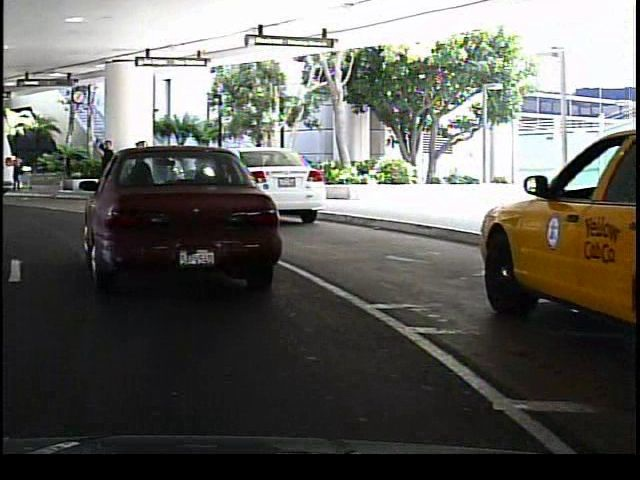person: (129, 138, 153, 196), (92, 137, 115, 196), (173, 143, 200, 193), (16, 153, 27, 197)
